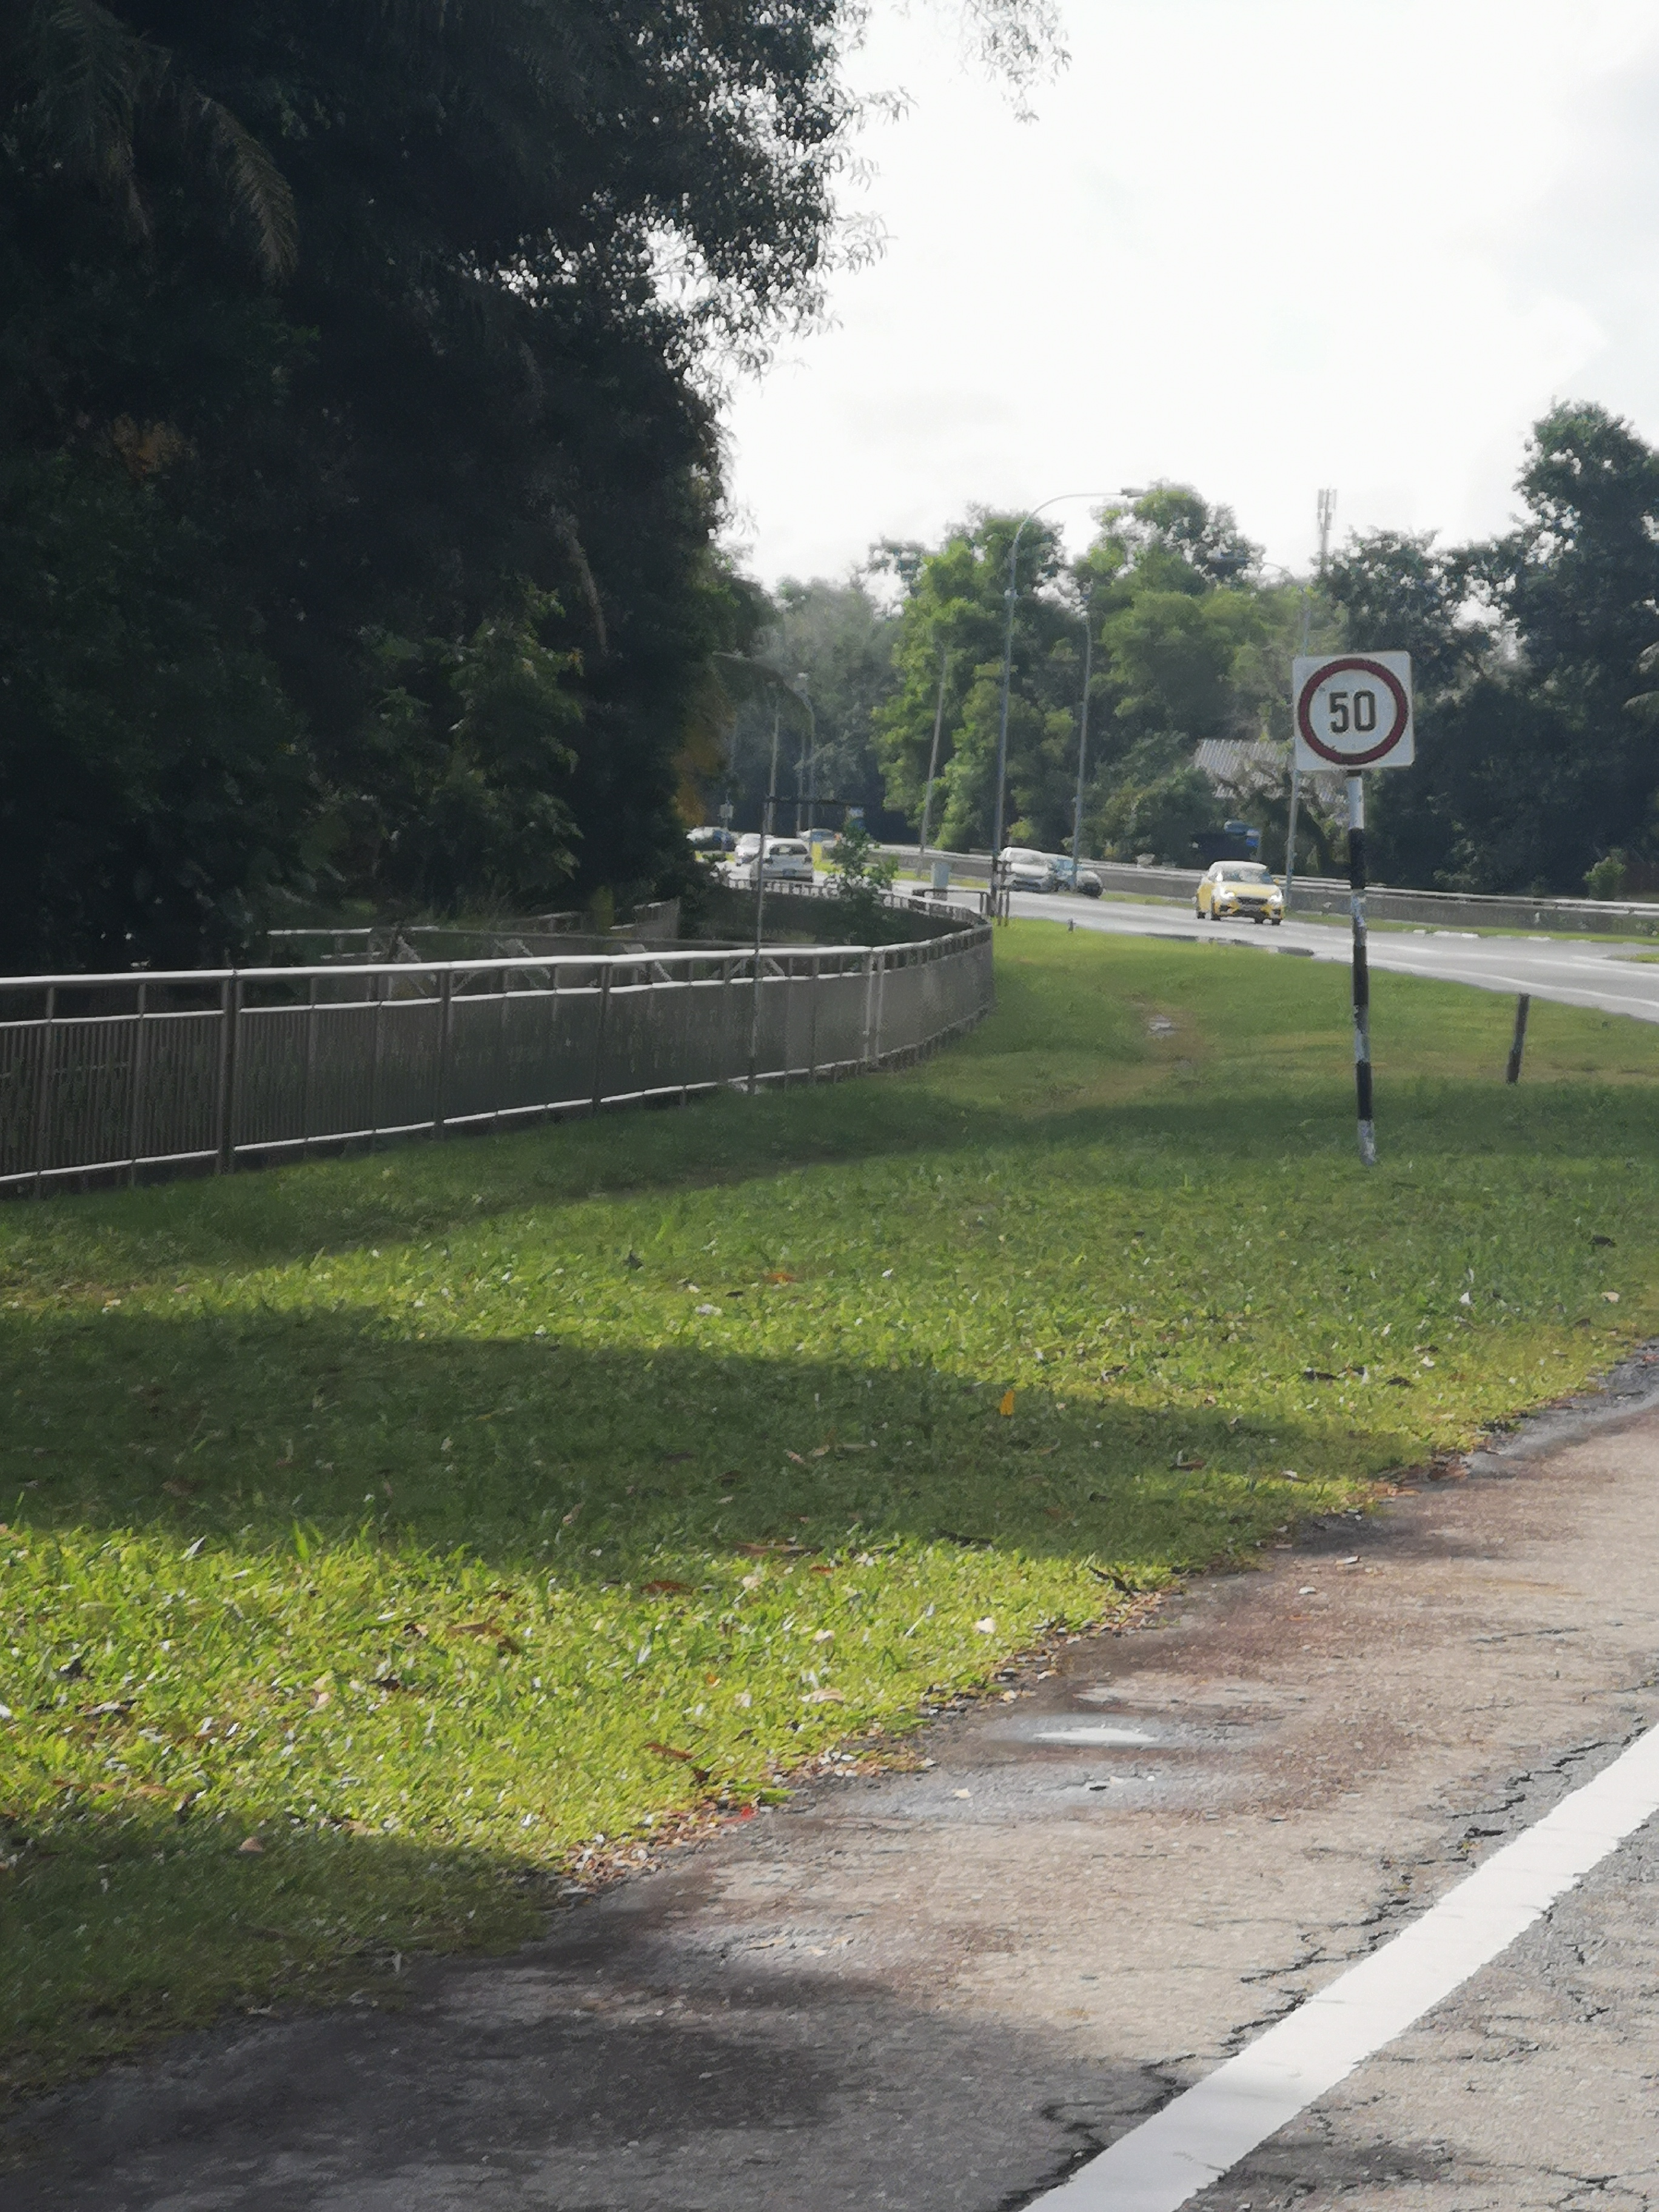speed limit 50: (1286, 641, 1419, 786)
